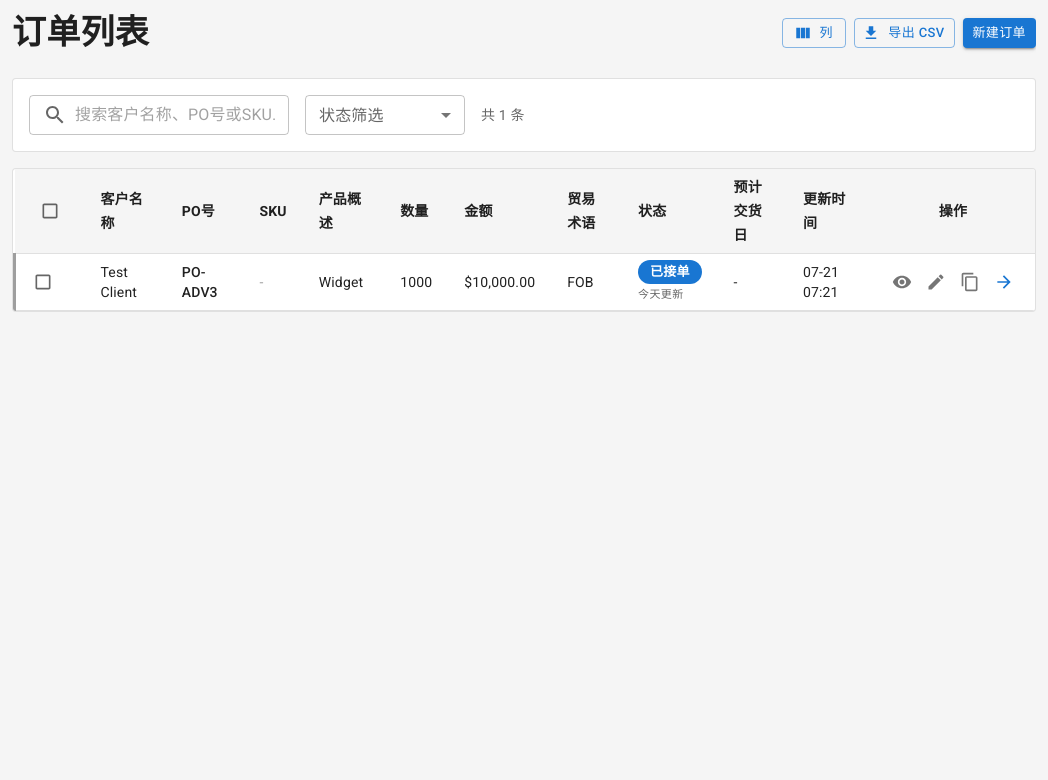
Test: REG — 回归测试：已有功能 › 快速状态推进 › 选择新状态后更新
Click the button named "快速推进状态" at (1004,282), box x1=989 y1=267 x2=1019 y2=297
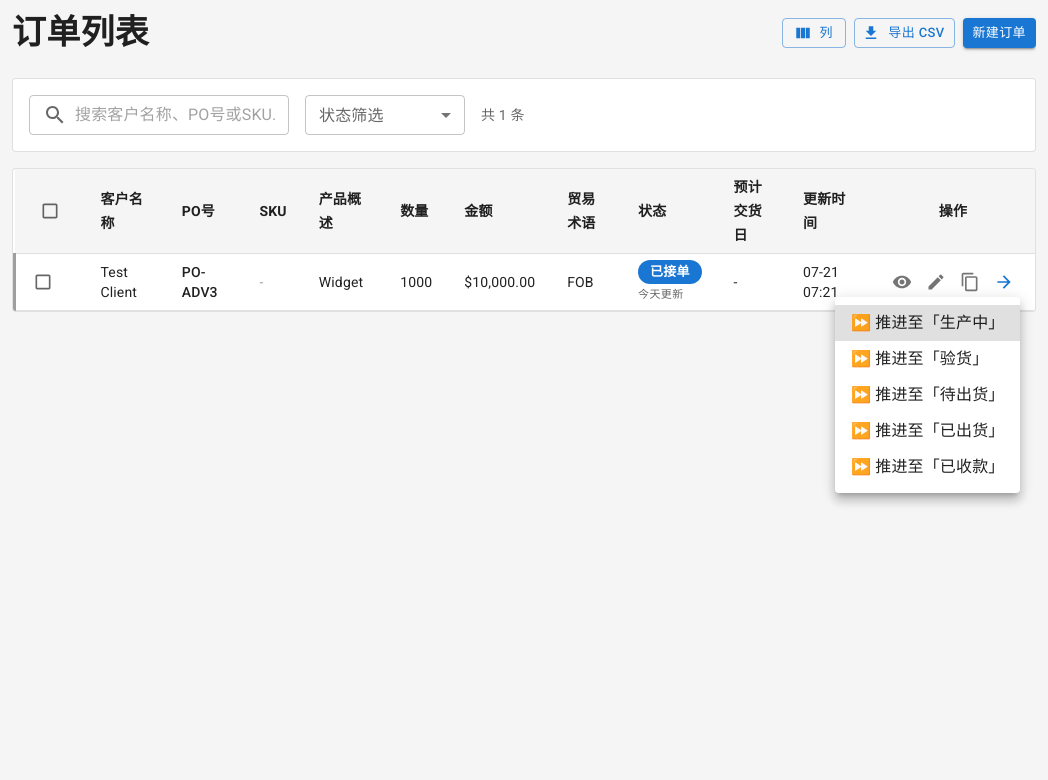
Click the menu item "⏩ 推进至「生产中」" at (928,323), box x1=835 y1=305 x2=1020 y2=341
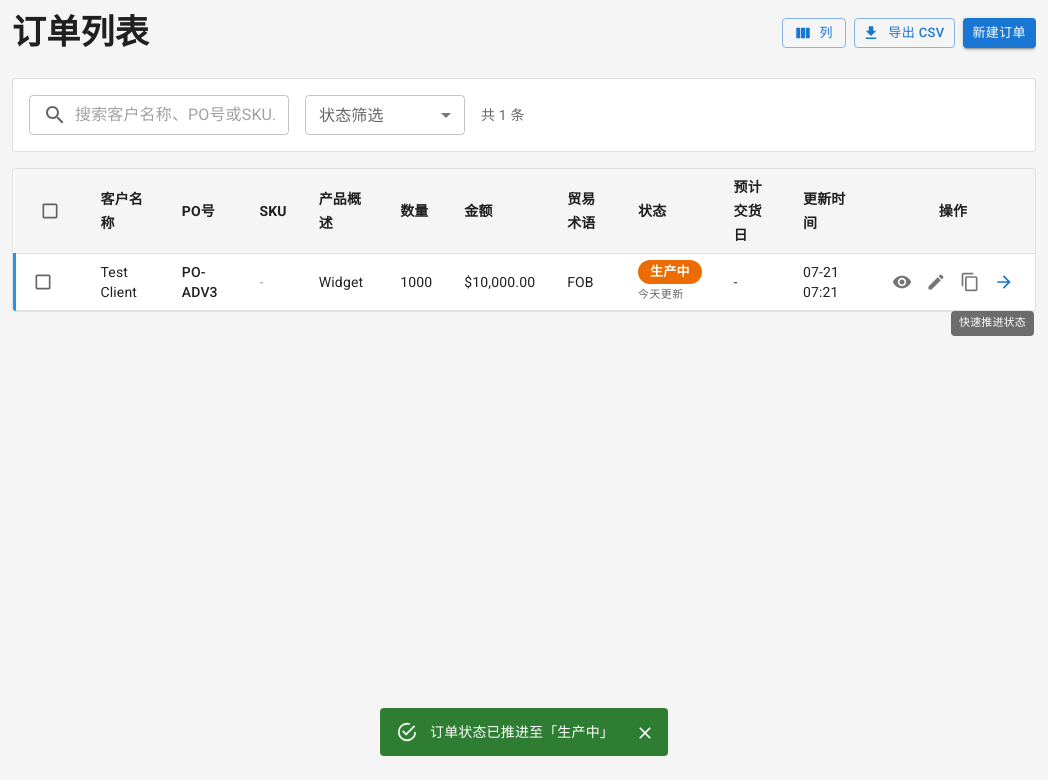
Expected: the text "生产中" is shown, x1=650 y1=264 x2=690 y2=279
